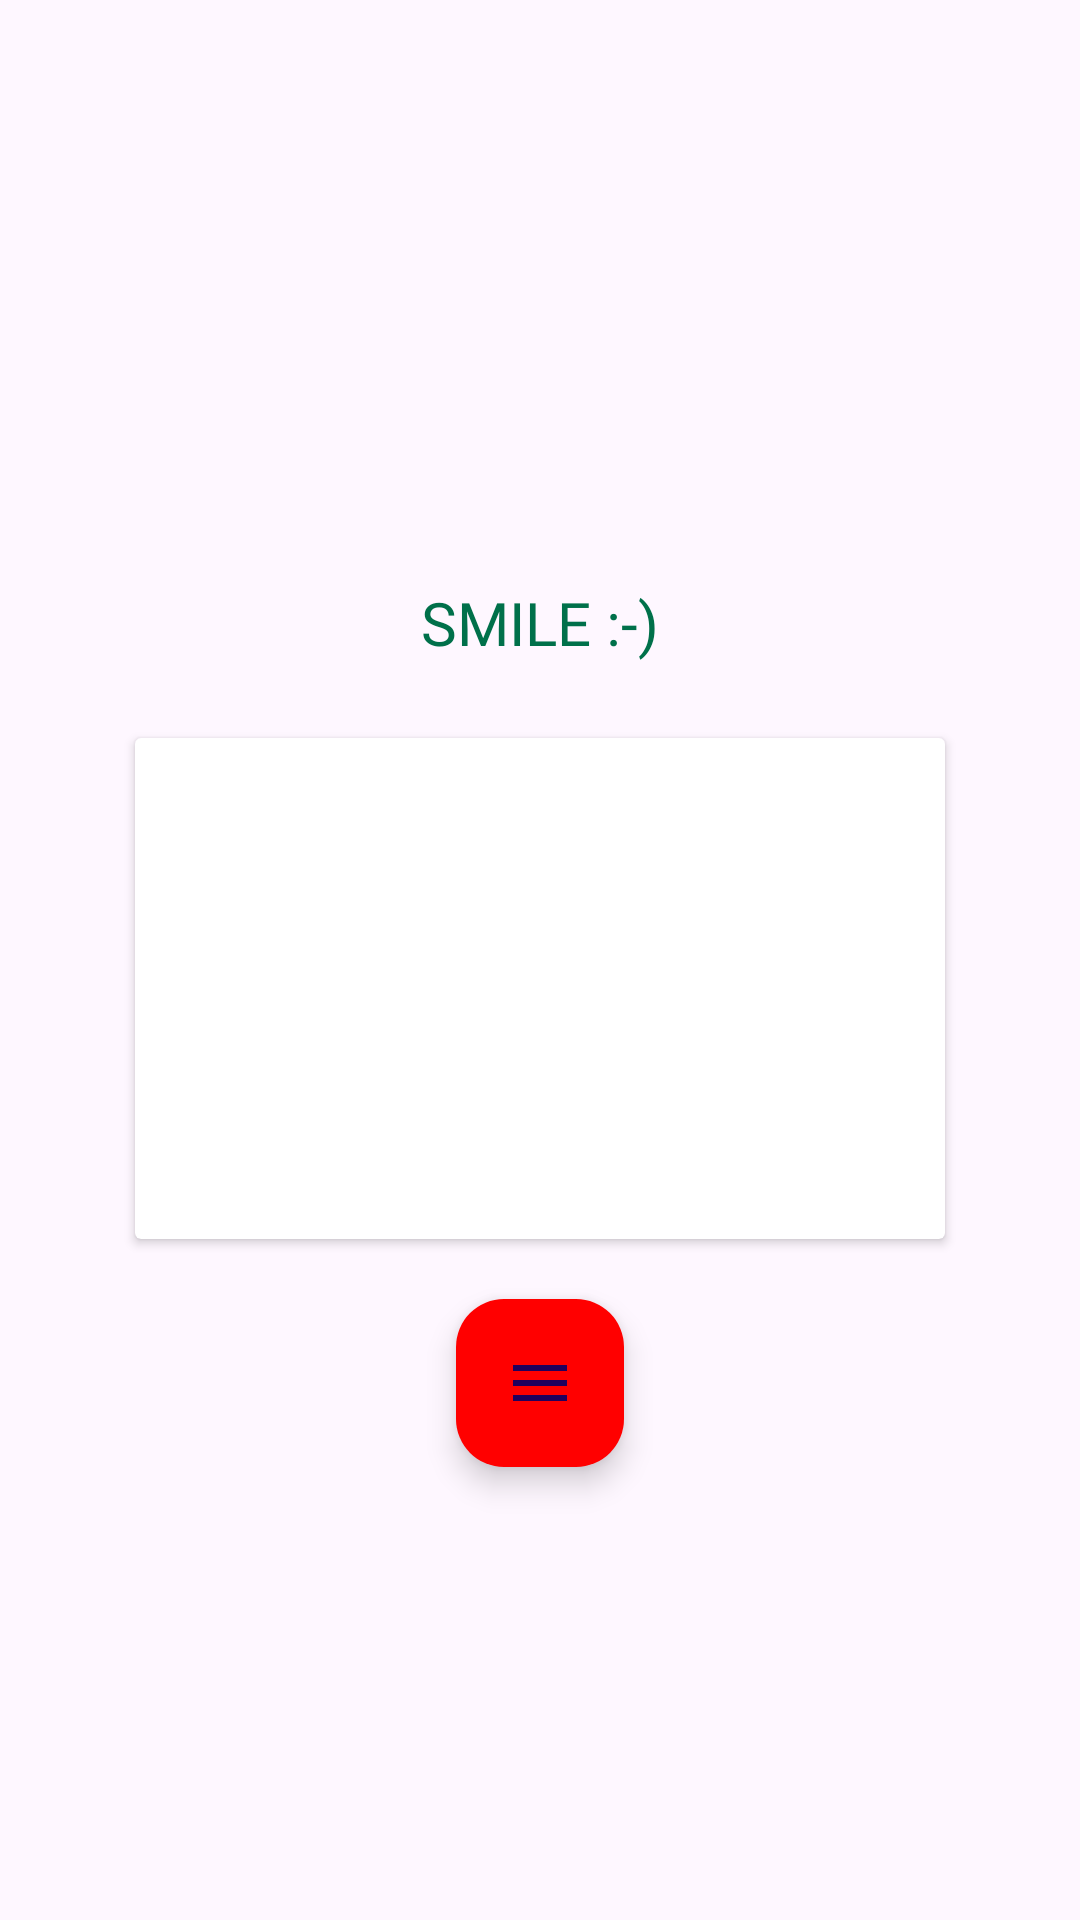

Where to tap for icons on this 1080*1920 app screen, as [x,y]:
menu: [540,1383]
